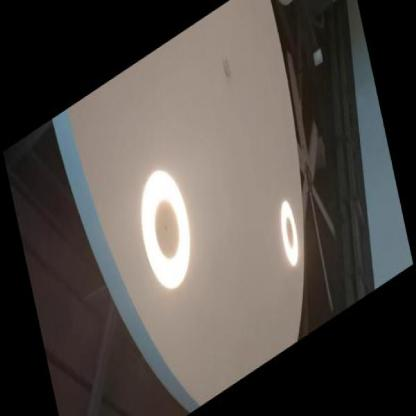light_on: (118, 133, 210, 331), (266, 180, 312, 285)
